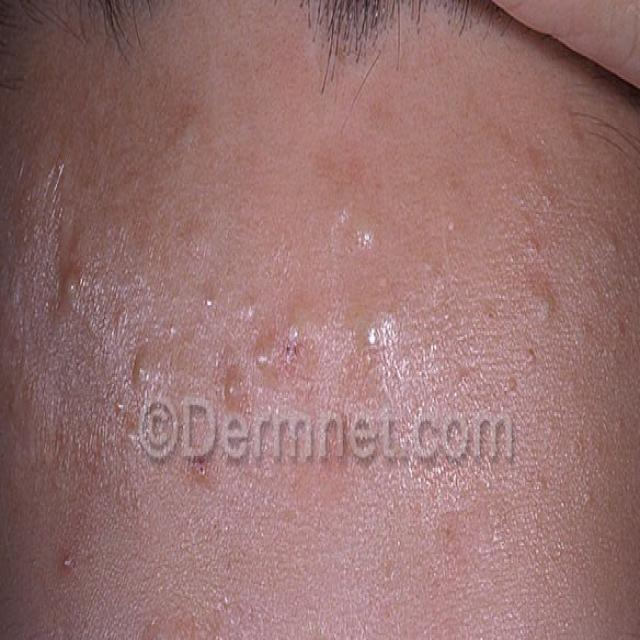Acne: (169, 258, 305, 451), (526, 223, 569, 363), (50, 226, 96, 330), (125, 310, 163, 409), (51, 538, 84, 587)
